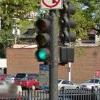Traffic light: (27, 10, 60, 67)
